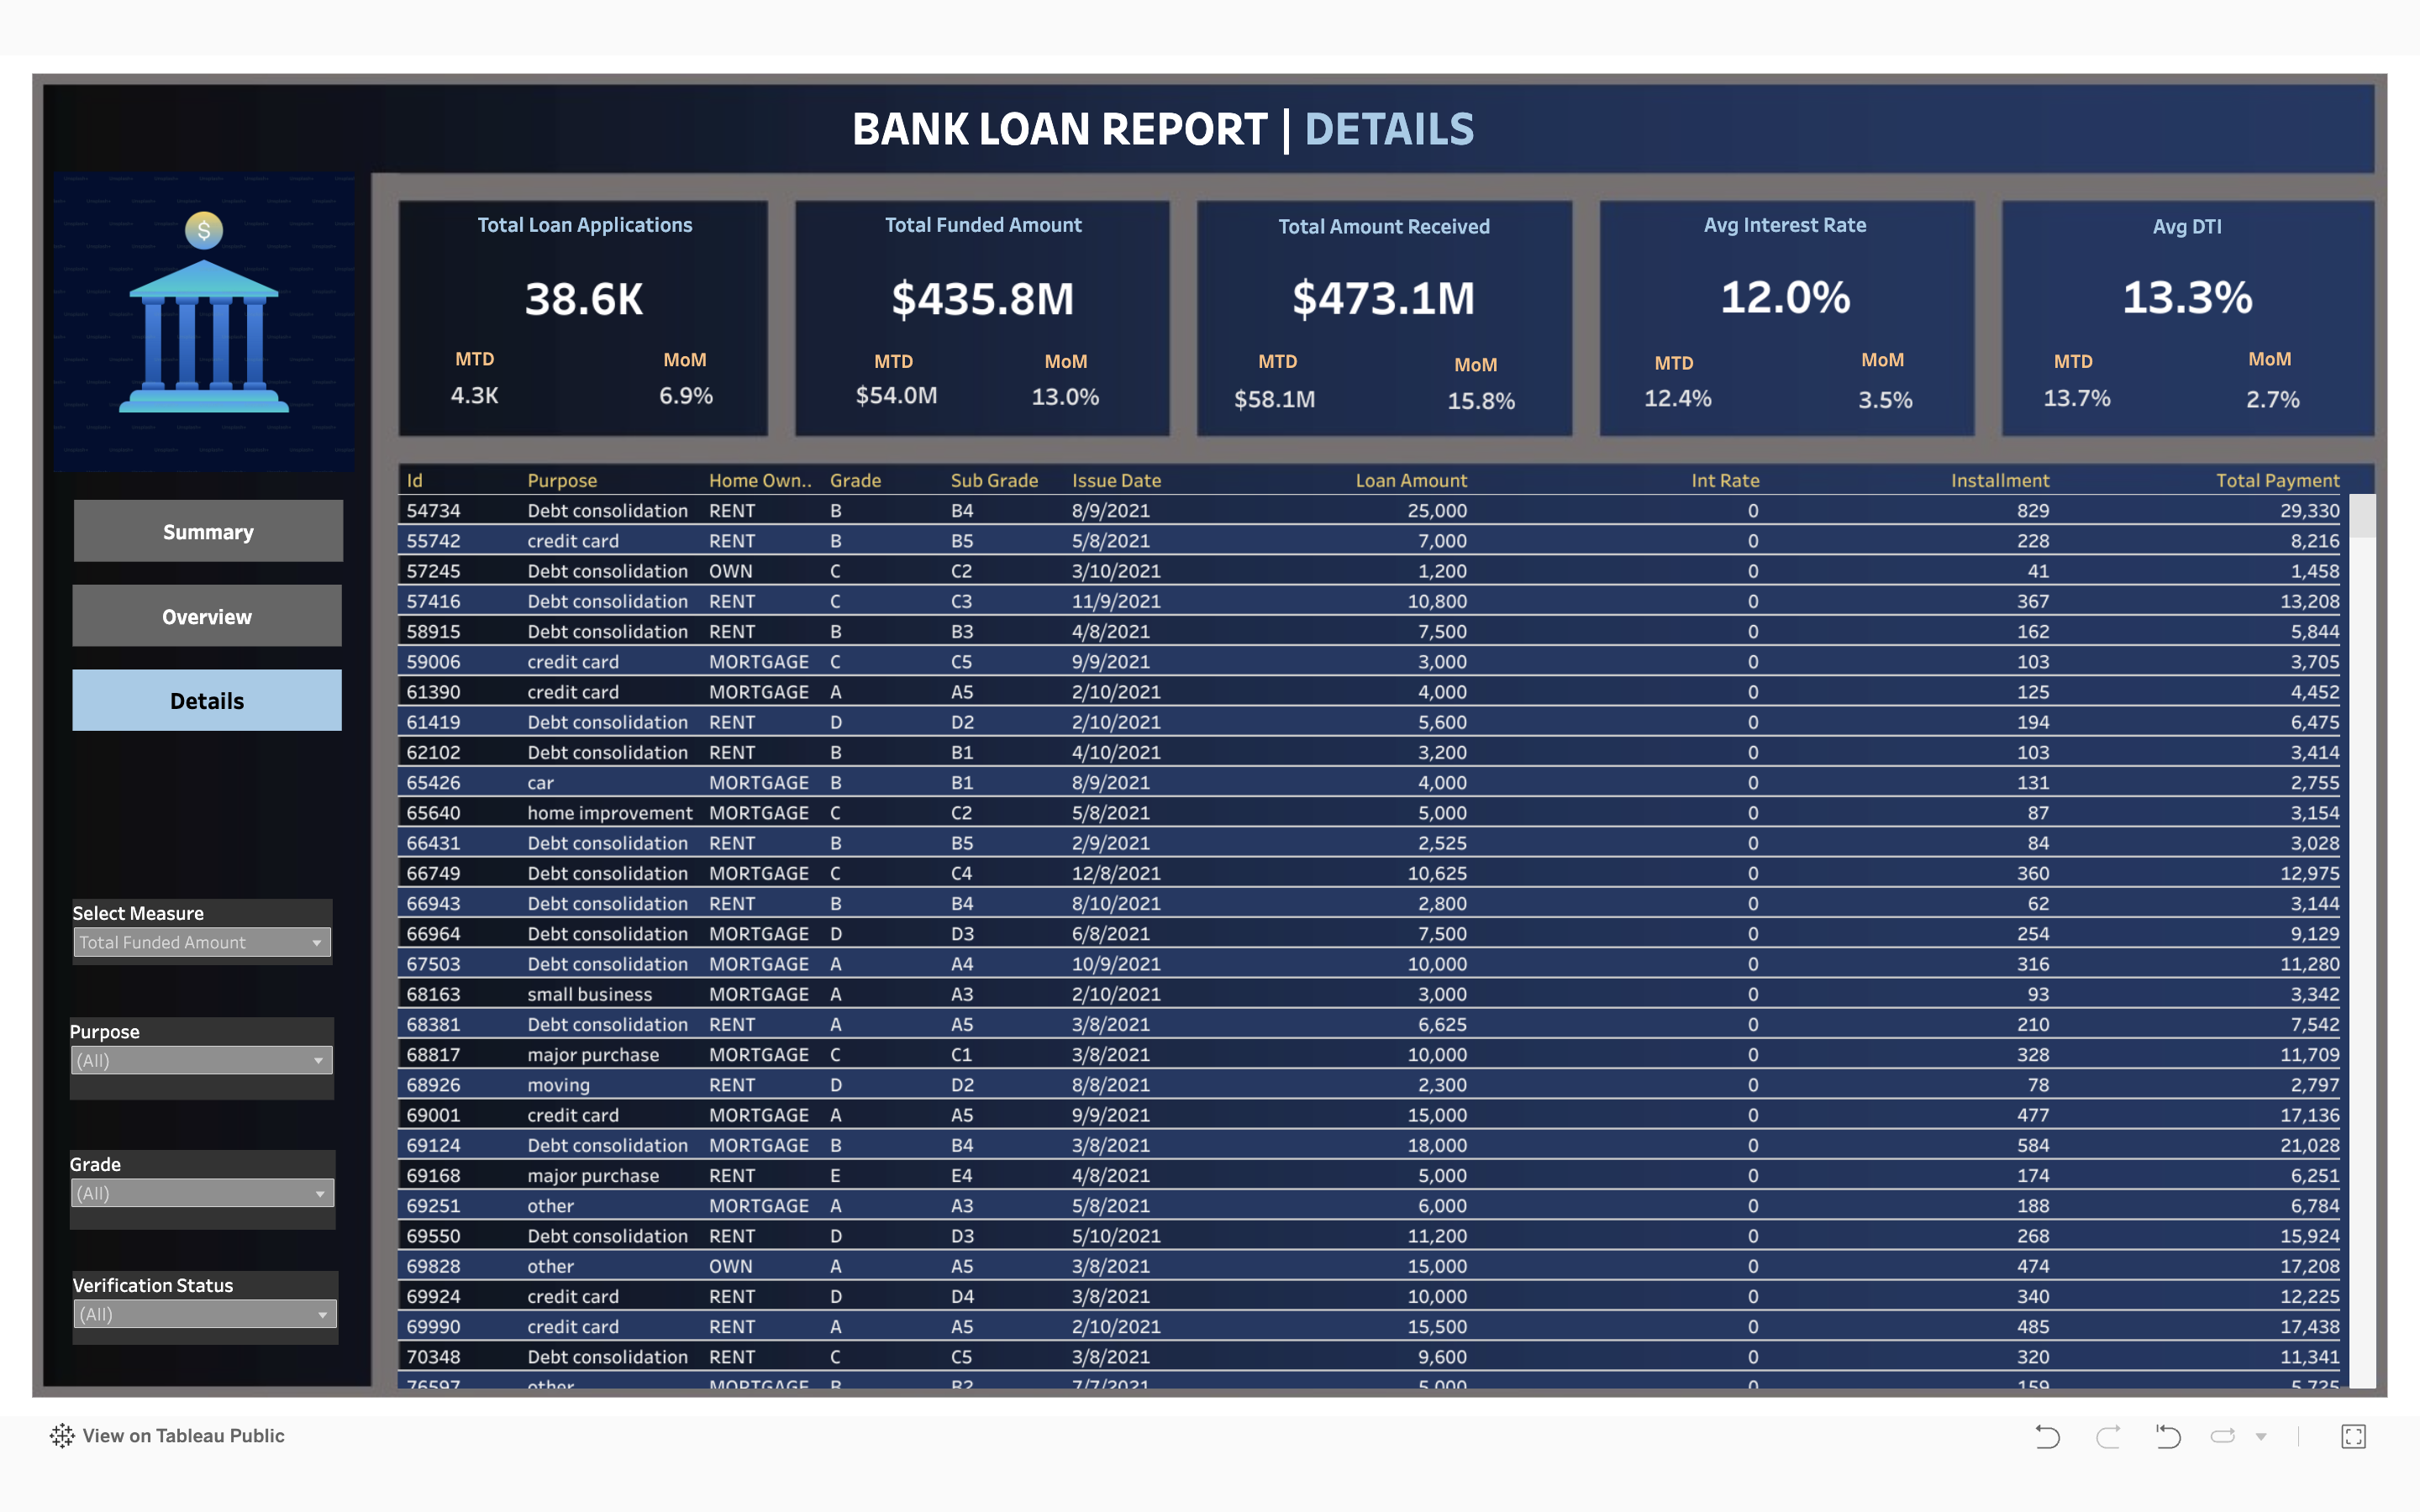

Layout of this report page (visuals, bound fields, positions):
{"tool":"tableau","page":{"name":"DETAILS","canvas":[1600,900],"ordinal":0},"visuals":[{"type":"image","param":"Image/Tableau Background 3.jpg","box":[8,8,1584,884]},{"type":"text","box":[563,22,481,51]},{"type":"image","param":"Image/premium_vector-1717511155261-8af531b8270c.jpeg","box":[25,77,220,199]},{"type":"worksheet","title":"Total Loan Applications","mark":"Automatic","box":[266,96,242,92]},{"type":"worksheet","title":"Total Funded Amount","mark":"Automatic","box":[527,96,247,92]},{"type":"worksheet","title":"Avg Interest Rate","mark":"Automatic","box":[1057,96,247,91]},{"type":"worksheet","title":"Total Amount Received","mark":"Automatic","box":[792,97,247,91]},{"type":"worksheet","title":"Avg DTI","mark":"Automatic","box":[1323,97,247,89]},{"type":"text","box":[272,180,84,40]},{"type":"text","box":[1459,180,84,40]},{"type":"text","box":[411,181,84,40]},{"type":"text","box":[1203,181,84,40]},{"type":"text","box":[549,182,84,40]},{"type":"text","box":[663,182,84,40]},{"type":"text","box":[803,182,84,40]},{"type":"text","box":[1329,182,84,40]},{"type":"text","box":[1065,183,84,40]},{"type":"text","box":[934,184,84,40]},{"type":"worksheet","title":"MTD Total Loan Applications","mark":"Automatic","box":[260,199,110,49]},{"type":"worksheet","title":"MTD Total Funded Amount","mark":"Automatic","box":[558,204,71,39]},{"type":"worksheet","title":"MoM Avg Int Rate","mark":"Automatic","box":[1213,204,68,45]},{"type":"worksheet","title":"MTD Avg DTI","mark":"Automatic","box":[1341,204,65,44]},{"type":"worksheet","title":"MoM Total Funded Amount","mark":"Automatic","box":[665,205,79,40]},{"type":"worksheet","title":"MTD Total Amount Received","mark":"Automatic","box":[810,207,67,40]},{"type":"worksheet","title":"MoM Avg DTI","mark":"Automatic","box":[1472,207,62,39]},{"type":"worksheet","title":"MTD Avg Int Rate","mark":"Automatic","box":[1076,208,67,35]},{"type":"worksheet","title":"MoM Loan Applications","mark":"Automatic","box":[424,209,61,30]},{"type":"worksheet","title":"MoM Total Amount Received","mark":"Automatic","box":[940,212,79,32]},{"type":"worksheet","title":"Details Tab","mark":"Automatic","rows":["id","purpose","home_ownership","grade","sub_grade","issue_date"],"box":[263,270,1308,612]},{"type":"dashboard-object","box":[49,294,178,41]},{"type":"dashboard-object","box":[48,350,178,41]},{"type":"dashboard-object","box":[48,406,178,41]},{"type":"parameter","param":"[Parameters].[Parameter 1]","box":[48,558,172,44]},{"type":"filter","title":"Avg DTI","param":"[federated.071fudh0e96j4d1cuqdf618amsxq].[none:purpose:nk]","box":[46,636,175,55]},{"type":"filter","title":"Avg DTI","param":"[federated.071fudh0e96j4d1cuqdf618amsxq].[none:grade:nk]","box":[46,724,176,53]},{"type":"filter","title":"Avg DTI","param":"[federated.071fudh0e96j4d1cuqdf618amsxq].[none:verification_status:nk]","box":[48,804,176,49]}]}

Visuals, with their boxes on the page's 1600x900 design canvas (x1, y1, x2, y2). These are canvas units, not pixel positions in the 2420x1512 screenshot, which may show the page scaled, cropped or inside an application window:
image: {"x1": 8, "y1": 8, "x2": 1592, "y2": 892}
text: {"x1": 563, "y1": 22, "x2": 1044, "y2": 73}
image: {"x1": 25, "y1": 77, "x2": 245, "y2": 276}
"Total Loan Applications" worksheet: {"x1": 266, "y1": 96, "x2": 508, "y2": 188}
"Total Funded Amount" worksheet: {"x1": 527, "y1": 96, "x2": 774, "y2": 188}
"Avg Interest Rate" worksheet: {"x1": 1057, "y1": 96, "x2": 1304, "y2": 187}
"Total Amount Received" worksheet: {"x1": 792, "y1": 97, "x2": 1039, "y2": 188}
"Avg DTI" worksheet: {"x1": 1323, "y1": 97, "x2": 1570, "y2": 186}
text: {"x1": 272, "y1": 180, "x2": 356, "y2": 220}
text: {"x1": 1459, "y1": 180, "x2": 1543, "y2": 220}
text: {"x1": 411, "y1": 181, "x2": 495, "y2": 221}
text: {"x1": 1203, "y1": 181, "x2": 1287, "y2": 221}
text: {"x1": 549, "y1": 182, "x2": 633, "y2": 222}
text: {"x1": 663, "y1": 182, "x2": 747, "y2": 222}
text: {"x1": 803, "y1": 182, "x2": 887, "y2": 222}
text: {"x1": 1329, "y1": 182, "x2": 1413, "y2": 222}
text: {"x1": 1065, "y1": 183, "x2": 1149, "y2": 223}
text: {"x1": 934, "y1": 184, "x2": 1018, "y2": 224}
"MTD Total Loan Applications" worksheet: {"x1": 260, "y1": 199, "x2": 370, "y2": 248}
"MTD Total Funded Amount" worksheet: {"x1": 558, "y1": 204, "x2": 629, "y2": 243}
"MoM Avg Int Rate" worksheet: {"x1": 1213, "y1": 204, "x2": 1281, "y2": 249}
"MTD Avg DTI" worksheet: {"x1": 1341, "y1": 204, "x2": 1406, "y2": 248}
"MoM Total Funded Amount" worksheet: {"x1": 665, "y1": 205, "x2": 744, "y2": 245}
"MTD Total Amount Received" worksheet: {"x1": 810, "y1": 207, "x2": 877, "y2": 247}
"MoM Avg DTI" worksheet: {"x1": 1472, "y1": 207, "x2": 1534, "y2": 246}
"MTD Avg Int Rate" worksheet: {"x1": 1076, "y1": 208, "x2": 1143, "y2": 243}
"MoM Loan Applications" worksheet: {"x1": 424, "y1": 209, "x2": 485, "y2": 239}
"MoM Total Amount Received" worksheet: {"x1": 940, "y1": 212, "x2": 1019, "y2": 244}
"Details Tab" worksheet: {"x1": 263, "y1": 270, "x2": 1571, "y2": 882}
dashboard-object: {"x1": 49, "y1": 294, "x2": 227, "y2": 335}
dashboard-object: {"x1": 48, "y1": 350, "x2": 226, "y2": 391}
dashboard-object: {"x1": 48, "y1": 406, "x2": 226, "y2": 447}
parameter: {"x1": 48, "y1": 558, "x2": 220, "y2": 602}
"Avg DTI" filter: {"x1": 46, "y1": 636, "x2": 221, "y2": 691}
"Avg DTI" filter: {"x1": 46, "y1": 724, "x2": 222, "y2": 777}
"Avg DTI" filter: {"x1": 48, "y1": 804, "x2": 224, "y2": 853}
